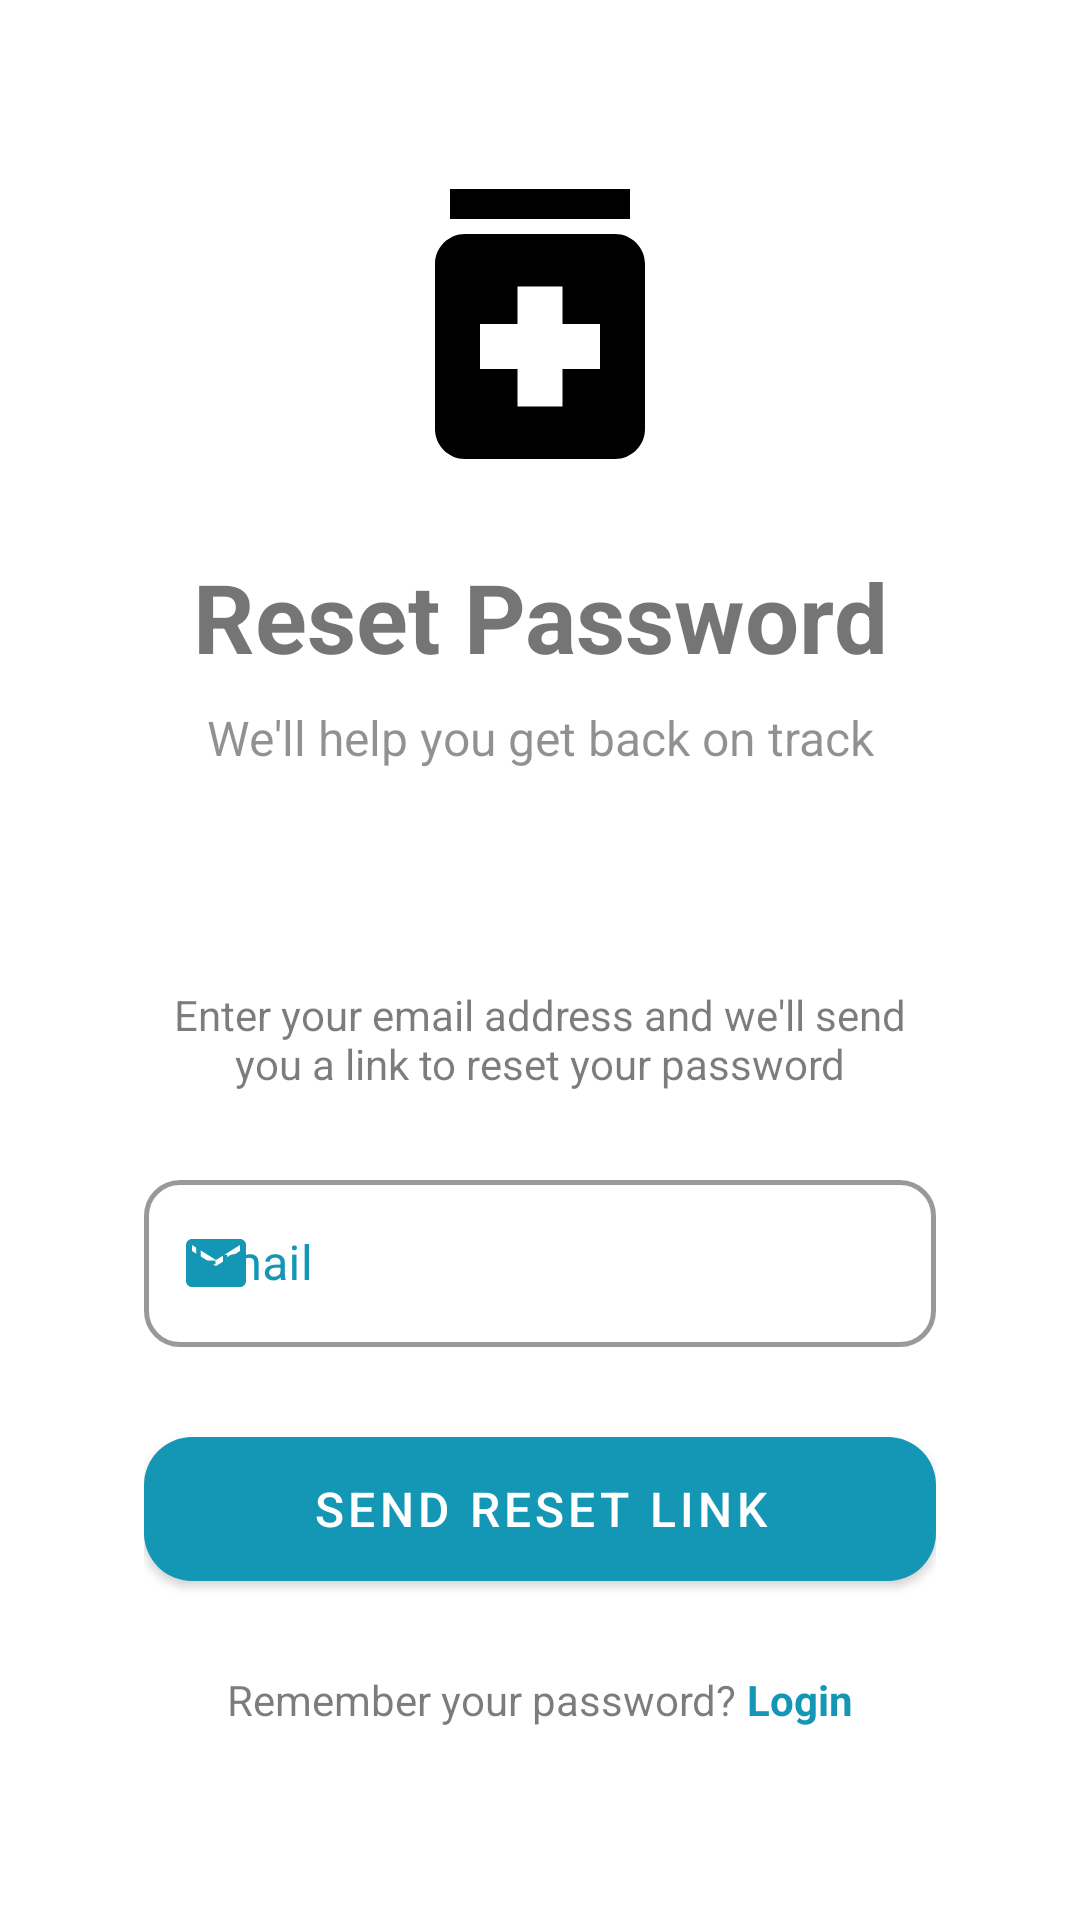

Locate icon controls on the screen. Image size 1080w x 1920h, boxes as (x1, y1, x2, y2).
medication: (435, 189, 645, 459)
